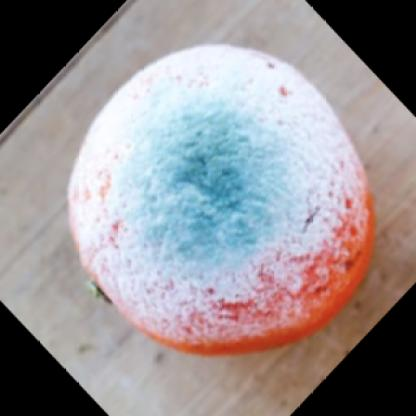rotten: (66, 43, 378, 359)
